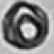correct: (1, 1, 51, 52)
